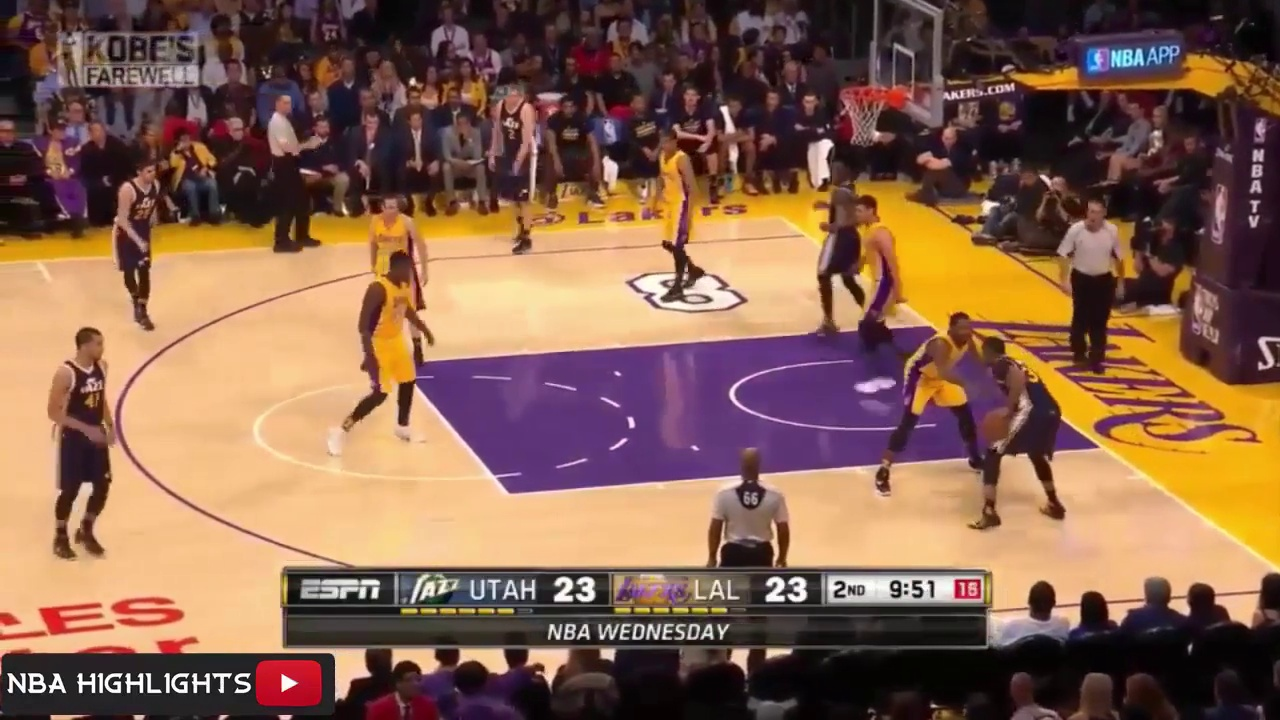jazz: (49, 329, 125, 558), (978, 337, 1069, 527), (488, 89, 554, 255), (115, 158, 166, 337), (817, 154, 859, 336)
lakers: (333, 259, 426, 456), (879, 312, 981, 486), (656, 132, 714, 297), (361, 198, 428, 333), (847, 196, 899, 357)
